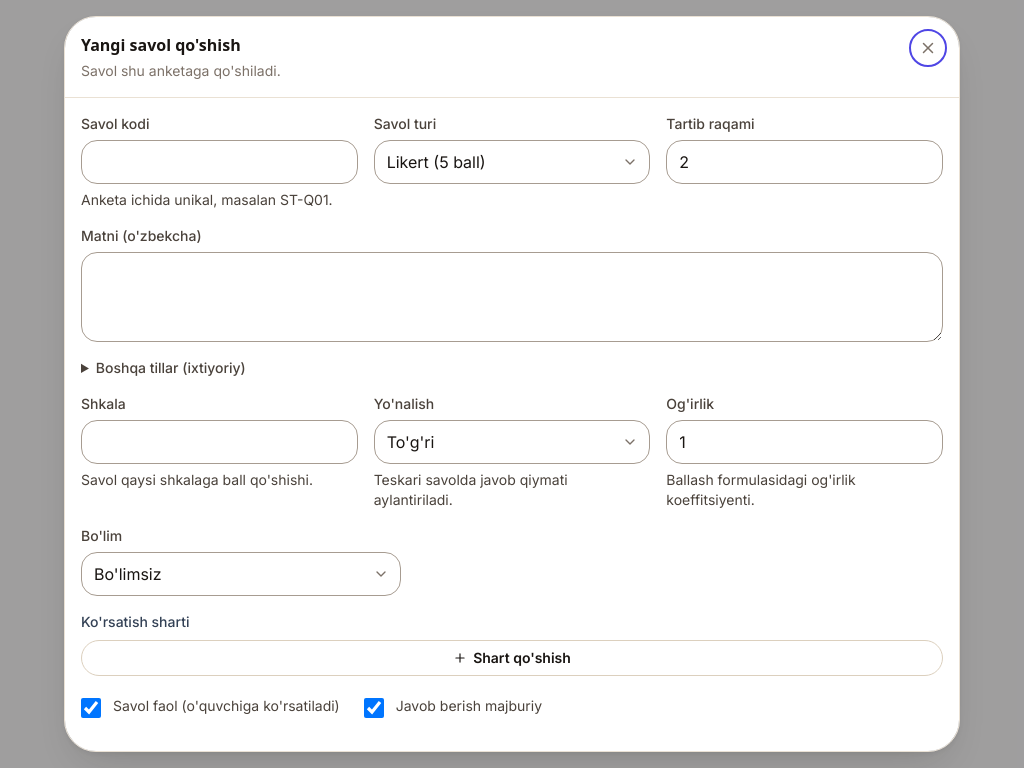
Test: QuestionEditorDialog — turga qarab maydonlar › MultiChoice tanlansa min/max va variantlar muharriri ko'rinadi
Select "Bir nechta variant" in the dropdown labelled "Savol turi": (512, 162) [374,140,650,184]
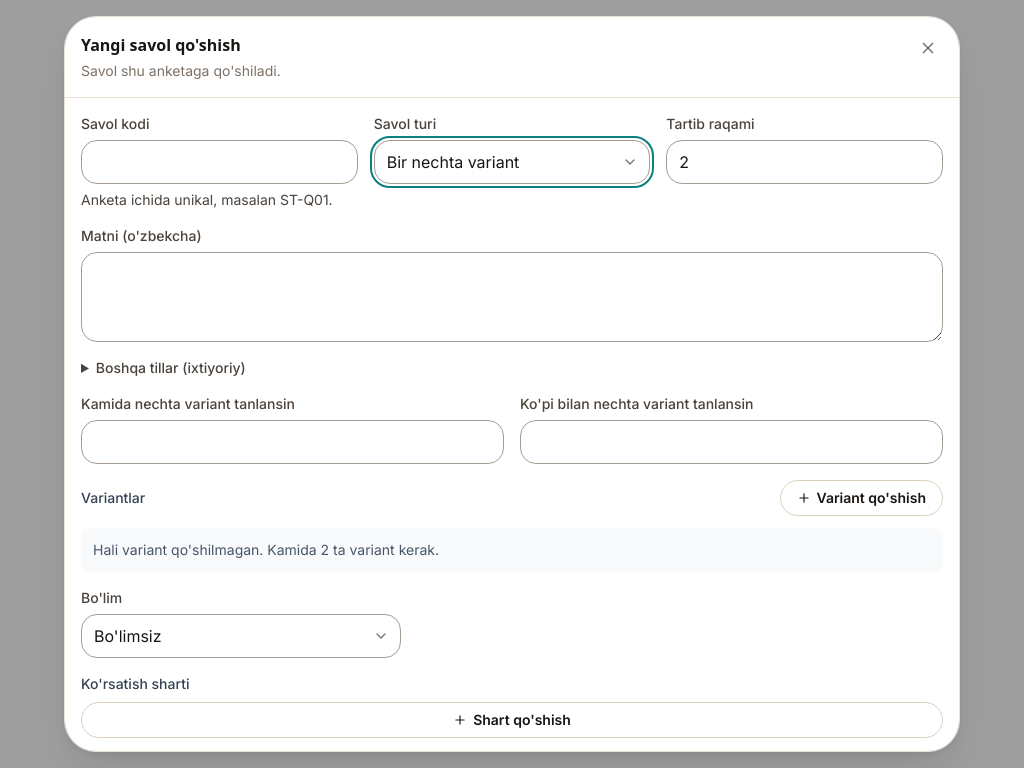
expect the number field labelled "Kamida nechta variant tanlansin" is shown: met, box [81,420,504,464]
expect the number field labelled "Ko'pi bilan nechta variant tanlansin" is shown: met, box [520,420,943,464]
expect the heading "Variantlar" is shown: met, box [81,488,145,508]
